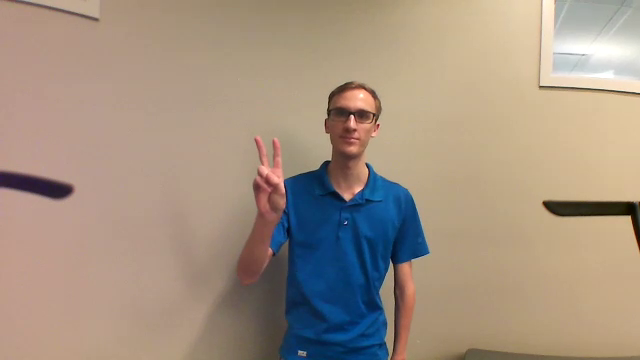peace: (244, 133, 298, 229)
